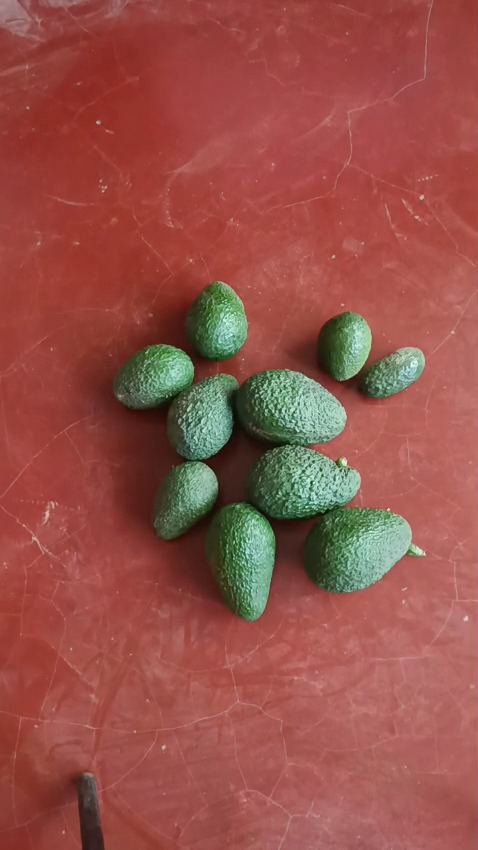Primera: (302, 508, 413, 593), (248, 445, 361, 521), (236, 369, 347, 445), (205, 503, 275, 620), (168, 373, 240, 460)
Segunda: (113, 344, 194, 410), (185, 282, 249, 361)
Tercera: (154, 461, 219, 540), (317, 311, 371, 381), (359, 347, 425, 399)
